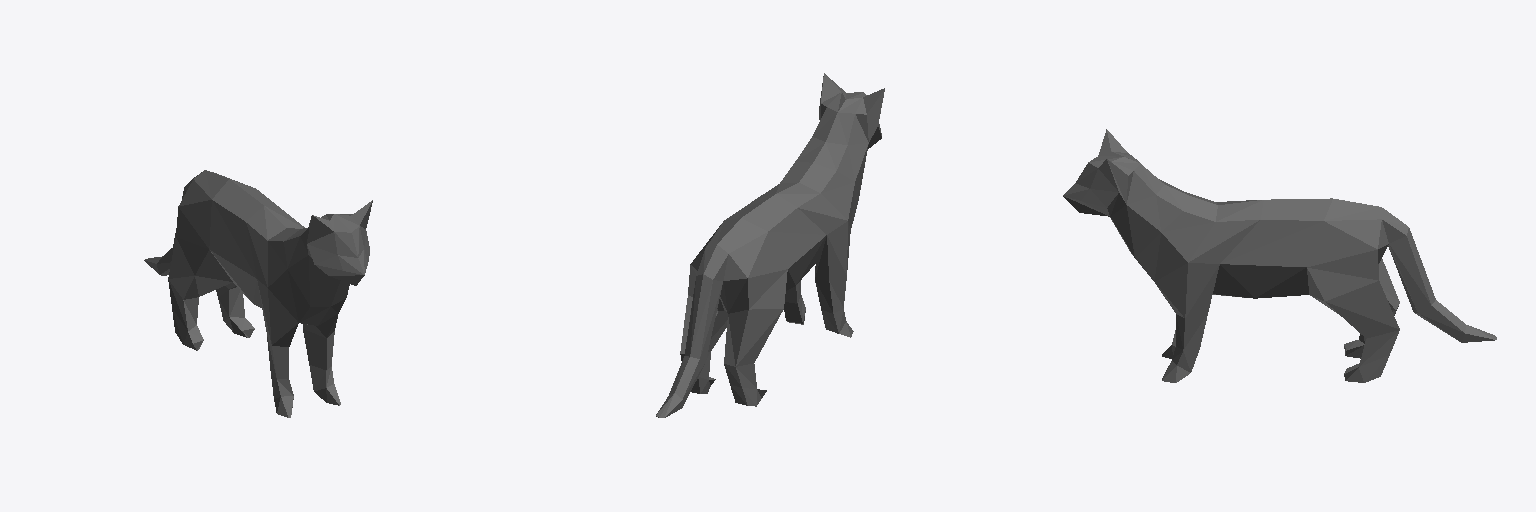
File: ORIGAMI_Chat_Free.obj
3 views of the same model, side by side, from view 1: azimuth 30°, elevation 25°; view 2: azimuth 150°, elevation 25°; view 3: azimuth 270°, elevation 25° (orthographic).
Parts seen in each view (by area): view 1: ORIGAMI_Chat; view 2: ORIGAMI_Chat; view 3: ORIGAMI_Chat.
Part boxes in pixels (left/top/right/bottom): ORIGAMI_Chat: left=144, top=170, right=372, bottom=417; ORIGAMI_Chat: left=656, top=73, right=884, bottom=417; ORIGAMI_Chat: left=1063, top=129, right=1496, bottom=382.
Size of the model in its own units: 12.69 by 35.28 by 61.89.